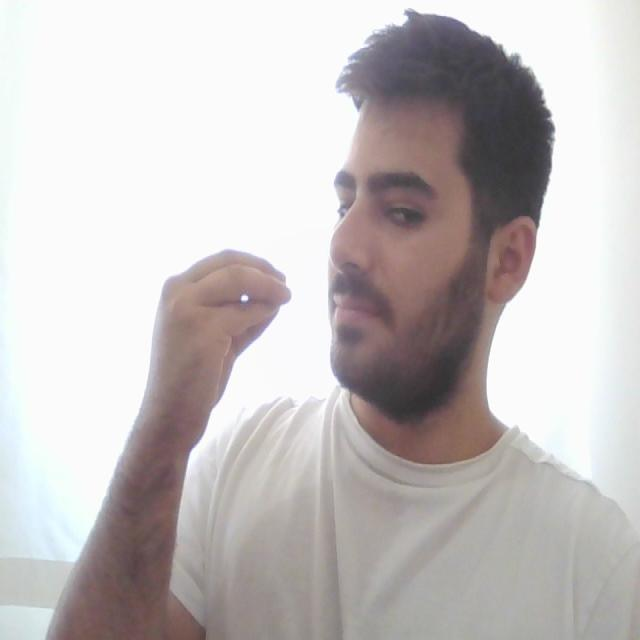Yemek: (150, 250, 390, 332)
